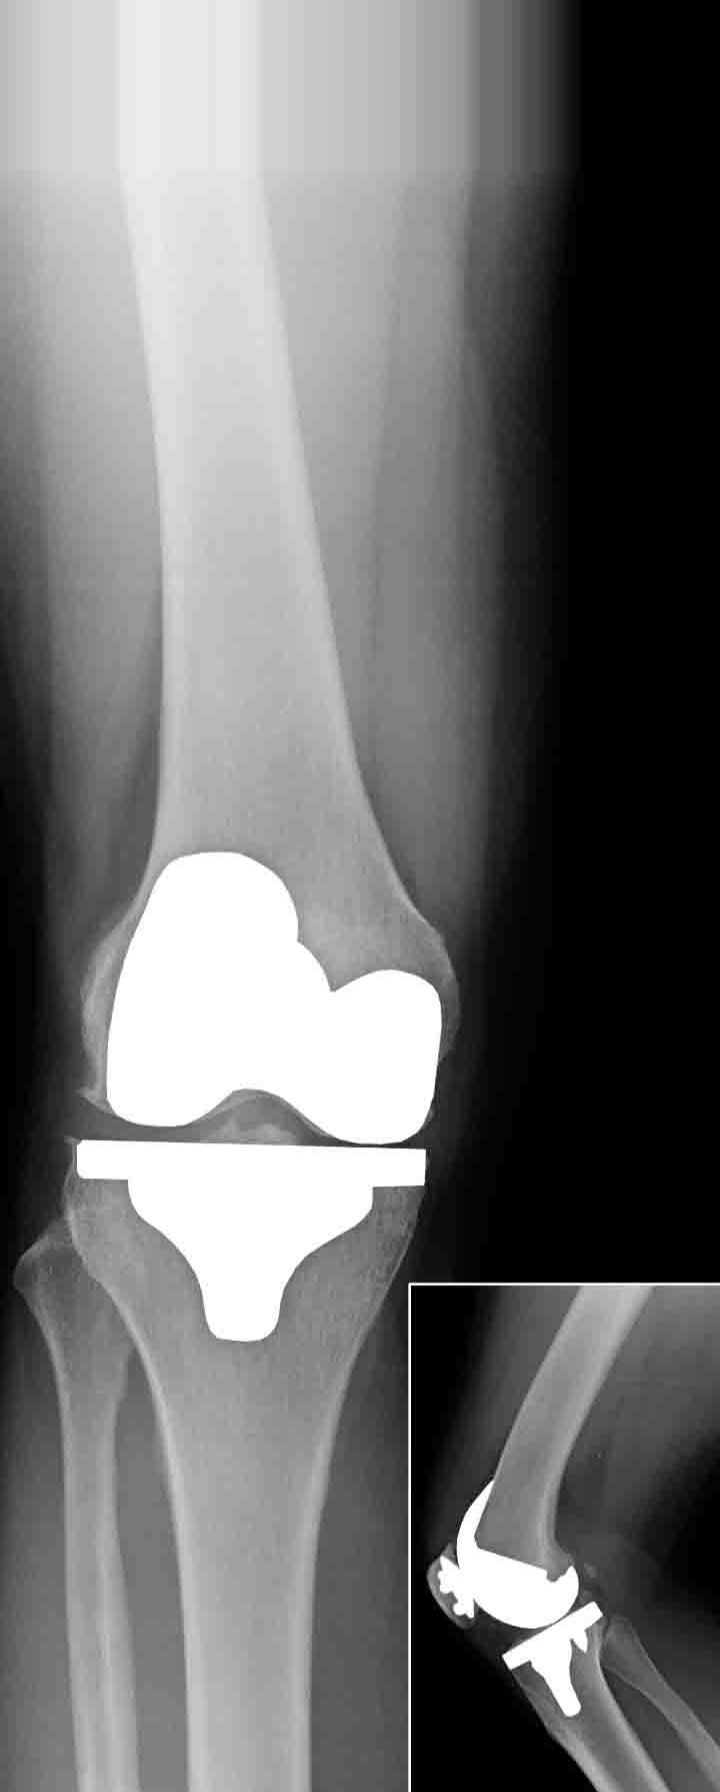Knee-TriathlonTritanium-Stryker: (79, 842, 448, 1350), (429, 1477, 611, 1720)
